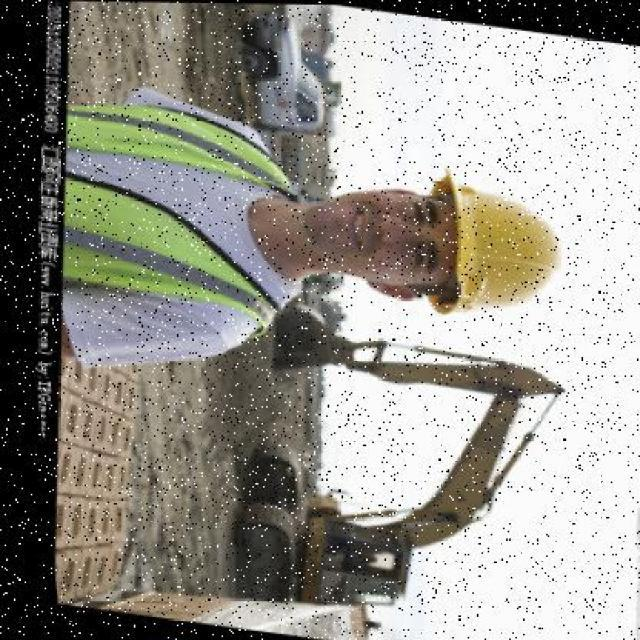helmet: (394, 165, 570, 333)
vest: (37, 79, 328, 350)
